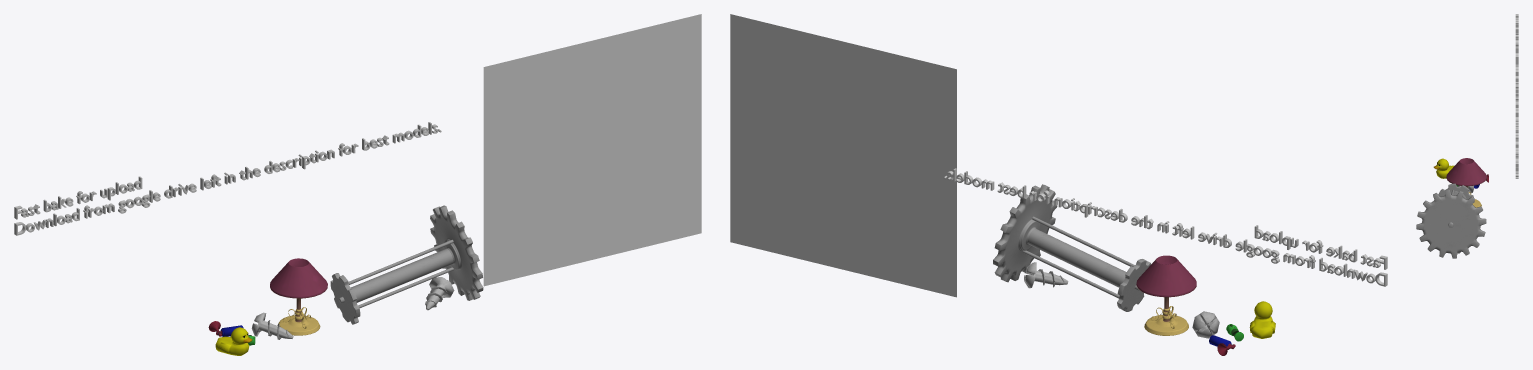
Rendered from Scrap Items.fbx.
3 renders of one model, left to right at view 1: azimuth 30°, elevation 25°; view 2: azimuth 150°, elevation 25°; view 3: azimuth 270°, elevation 25°, orthographic. The views are drawn at different scales.
Parts seen in each view (by area): view 1: Screenshot_Baked, Large Axel_Baked, Text_Baked, FancyLamp_Baked, Rubber Ducky_Baked; view 2: Screenshot_Baked, Large Axel_Baked, Text_Baked, FancyLamp_Baked, Rubber Ducky_Baked, NutBase1_Baked, NutBase2_Baked; view 3: Large Axel_Baked, FancyLamp_Baked, Text_Baked, Rubber Ducky_Baked.
Part boxes in pixels (bbox=[...]): Screenshot_Baked: bbox=[483, 14, 701, 286]; Large Axel_Baked: bbox=[330, 205, 483, 324]; Text_Baked: bbox=[14, 122, 441, 235]; FancyLamp_Baked: bbox=[270, 258, 327, 335]; Rubber Ducky_Baked: bbox=[215, 327, 252, 355]; Screenshot_Baked: bbox=[730, 14, 956, 297]; Large Axel_Baked: bbox=[993, 184, 1151, 311]; Text_Baked: bbox=[943, 168, 1387, 286]; FancyLamp_Baked: bbox=[1136, 255, 1196, 335]; Rubber Ducky_Baked: bbox=[1249, 301, 1275, 338]; NutBase1_Baked: bbox=[1192, 311, 1219, 338]; NutBase2_Baked: bbox=[1024, 262, 1068, 288]; Large Axel_Baked: bbox=[1416, 183, 1486, 258]; FancyLamp_Baked: bbox=[1446, 158, 1486, 207]; Text_Baked: bbox=[1515, 14, 1518, 178]; Rubber Ducky_Baked: bbox=[1433, 158, 1454, 178].
Size of the model in its own units: 659 by 210 by 127.
